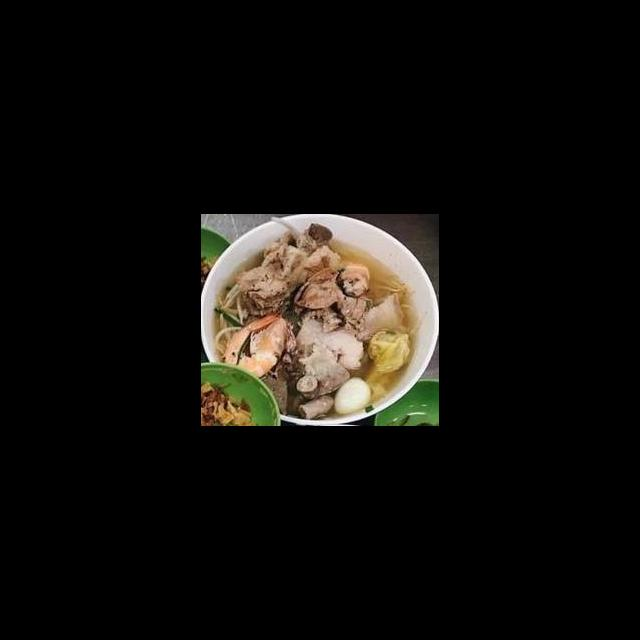tom: (223, 309, 291, 384)
trung: (332, 374, 374, 417)
